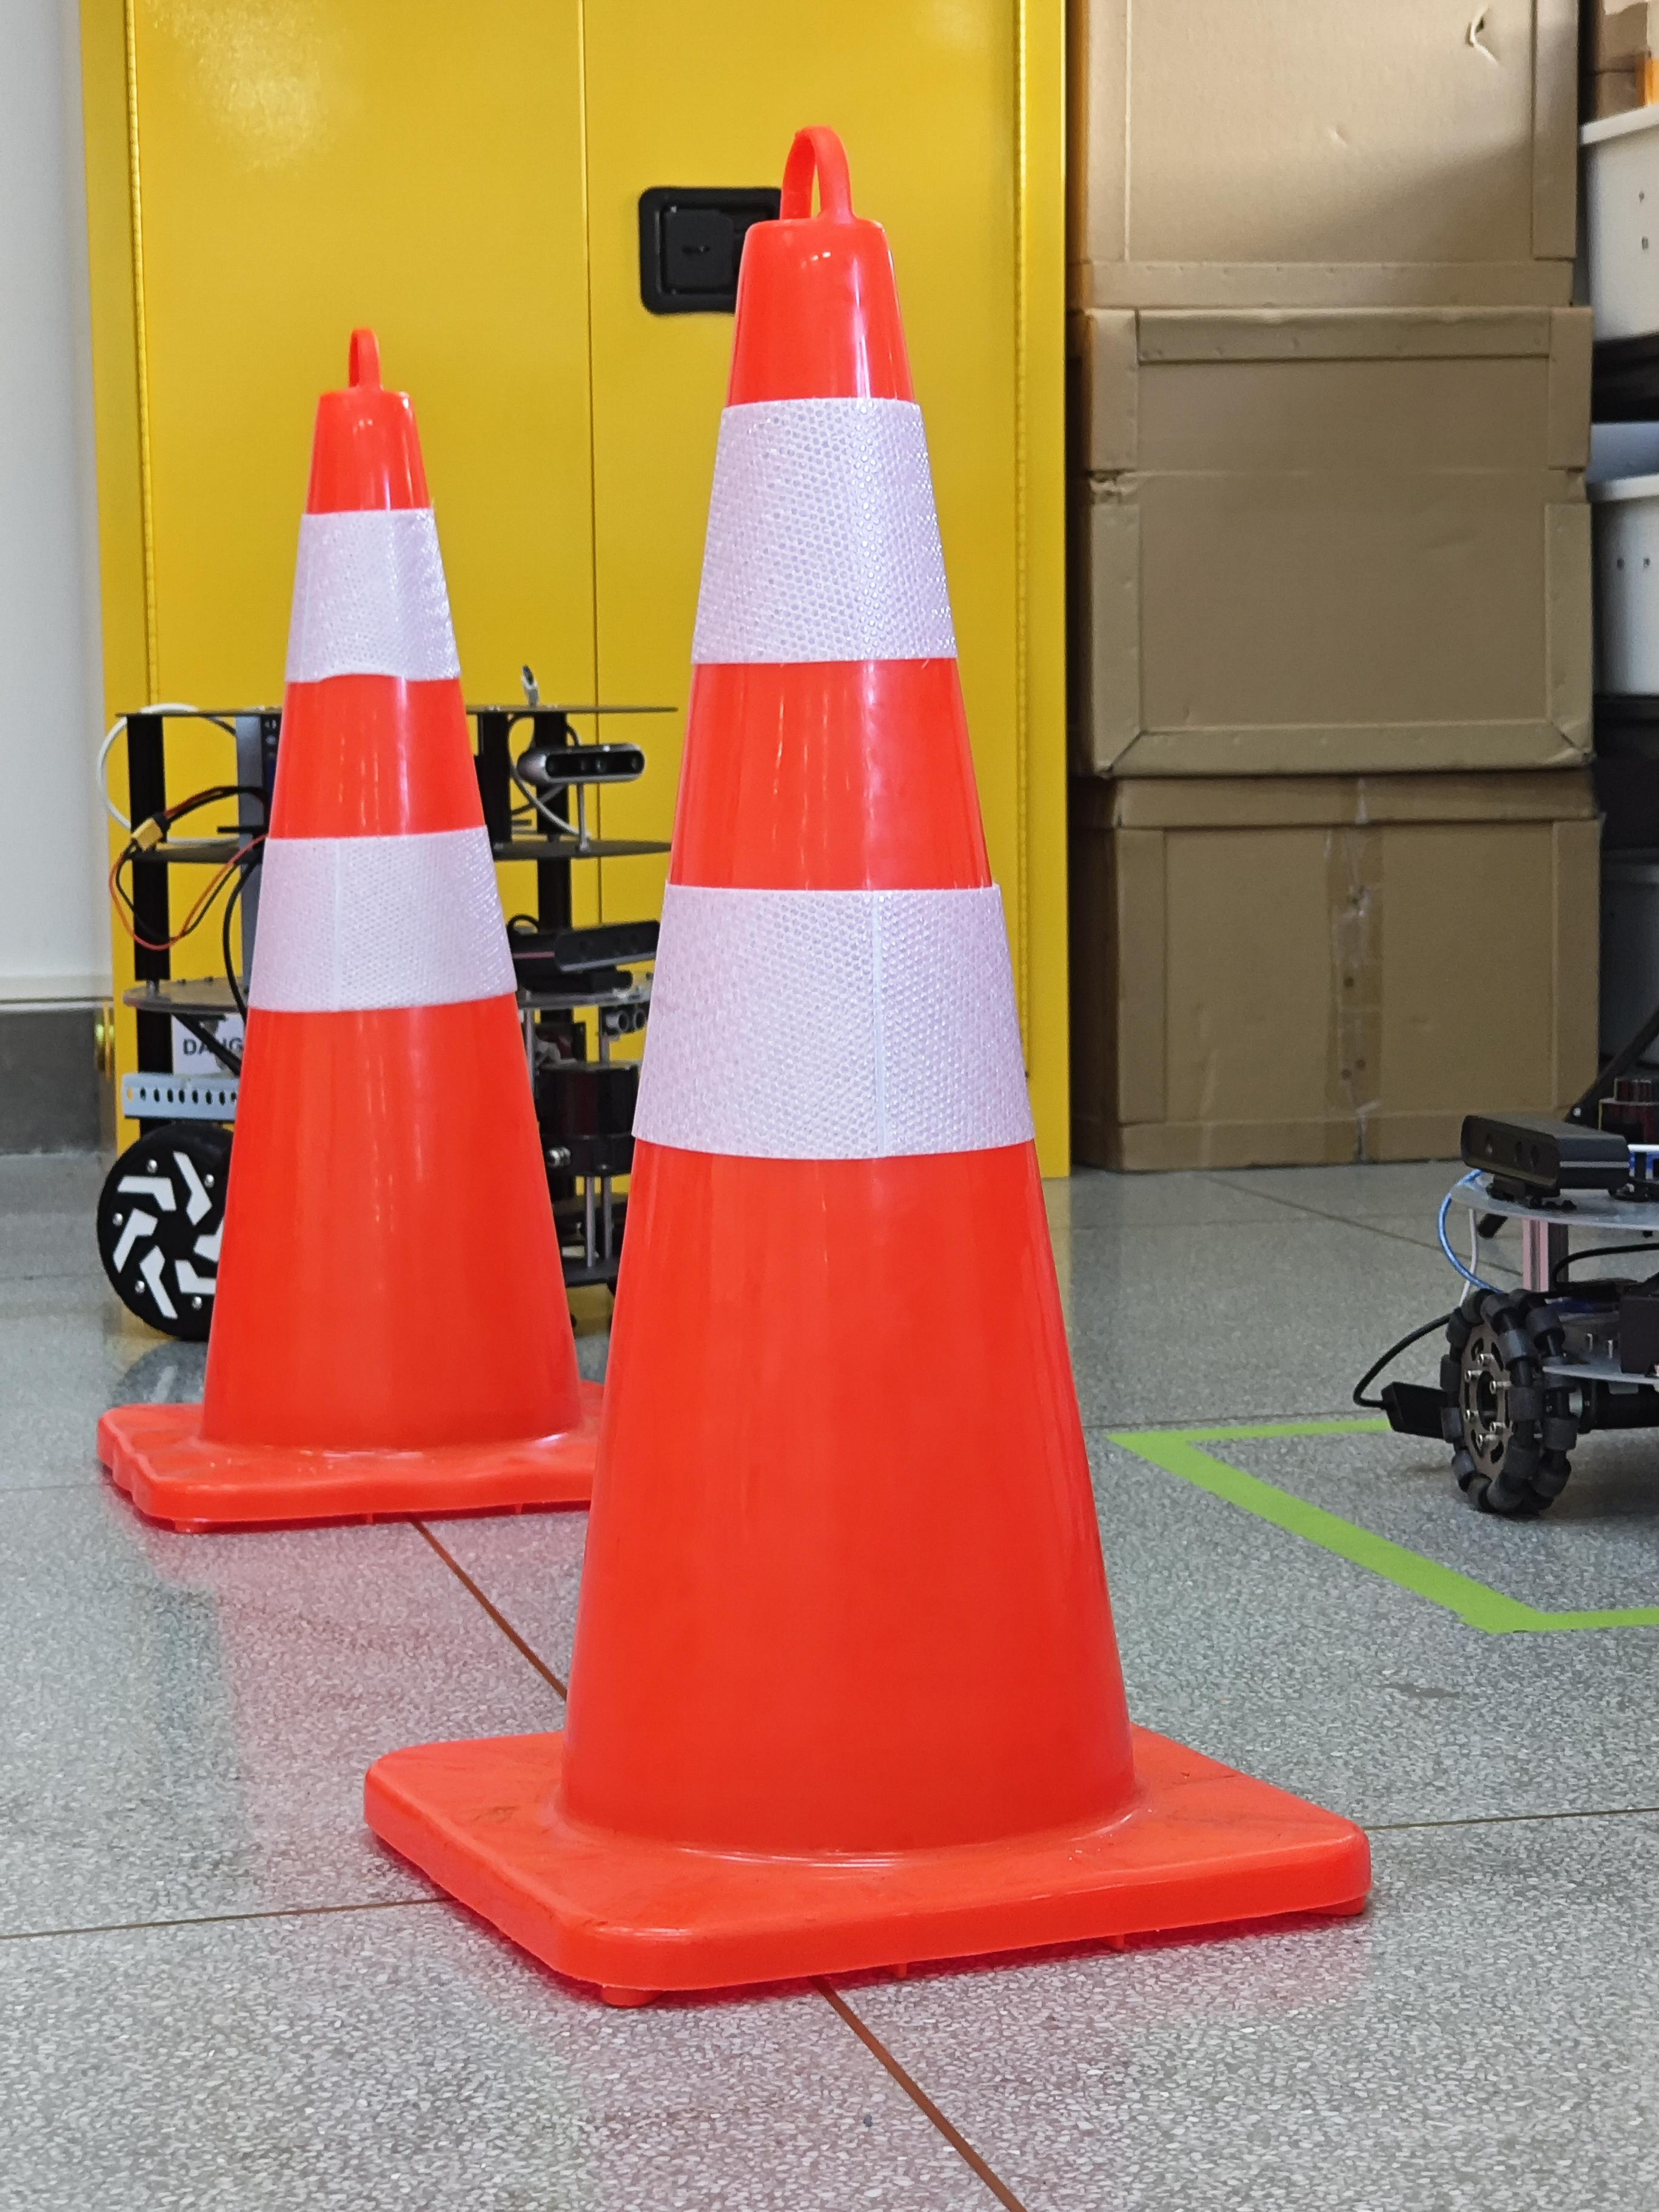cone: (366, 131, 1368, 2001), (98, 331, 599, 1529)
